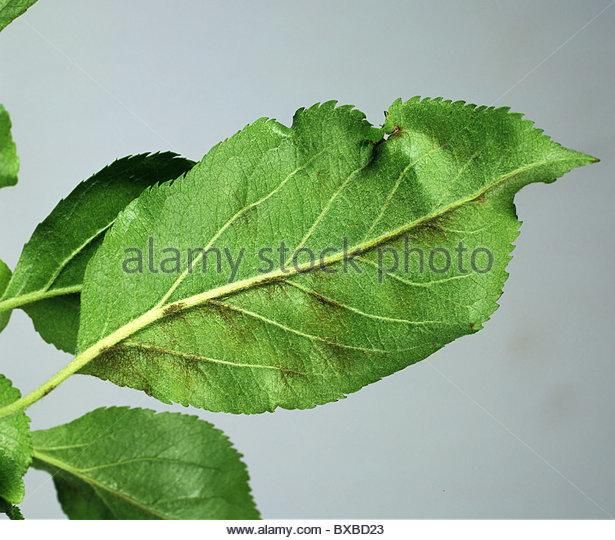Apple Scab Leaf: (76, 82, 593, 412)
